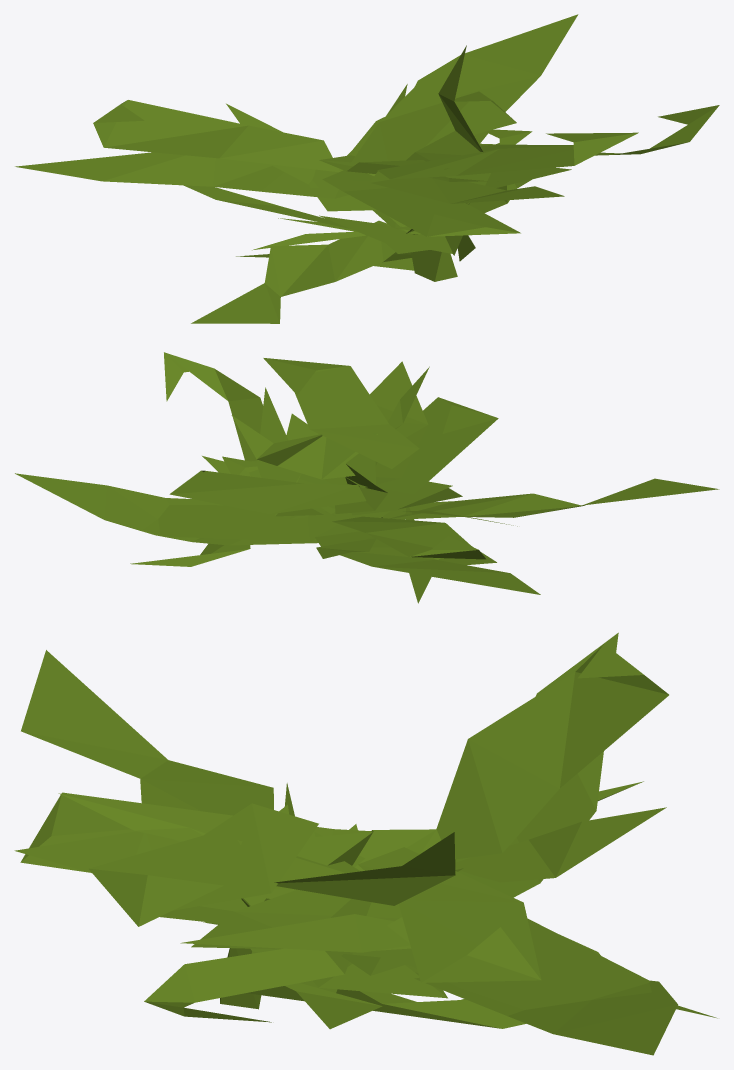
File: CornDestroyed.glb
The picture shows the model from 3 angles, top to bottom: view 1: azimuth 30°, elevation 25°; view 2: azimuth 150°, elevation 25°; view 3: azimuth 270°, elevation 25°; orthographic projection. The views are drawn at different scales.
Visible parts, largest first — view 1: Corn.002; view 2: Corn.002; view 3: Corn.002.
Part boxes in pixels (left/top/right/bottom): Corn.002: left=15, top=14, right=719, bottom=323; Corn.002: left=15, top=352, right=719, bottom=603; Corn.002: left=14, top=632, right=717, bottom=1055.
Size of the model in its own units: 2.98 by 0.7517 by 2.04.
